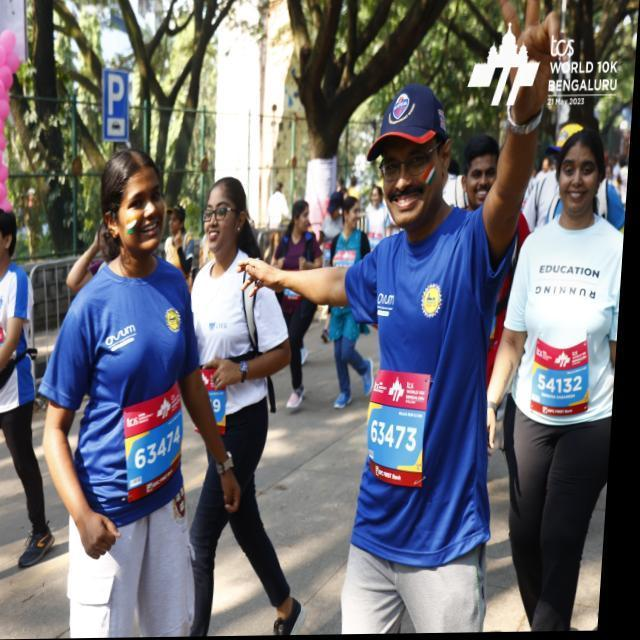dorsal: (371, 368, 438, 493), (126, 397, 193, 495), (534, 338, 600, 421)
